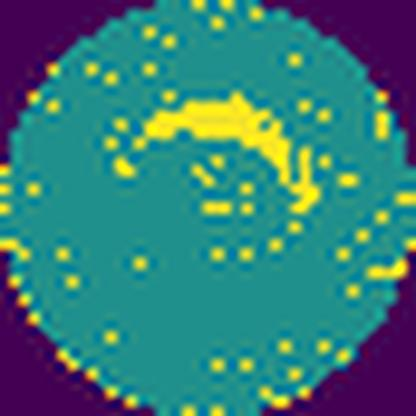Loc: (126, 91, 319, 215)
